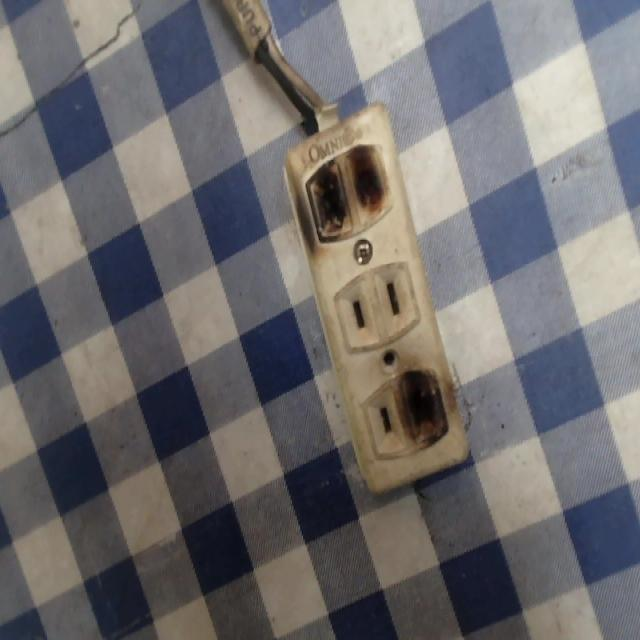-: (290, 136, 391, 247), (395, 357, 456, 455)
